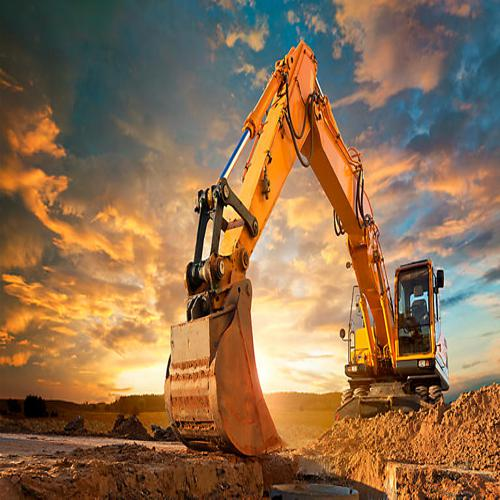con_eq: (167, 35, 454, 455)
